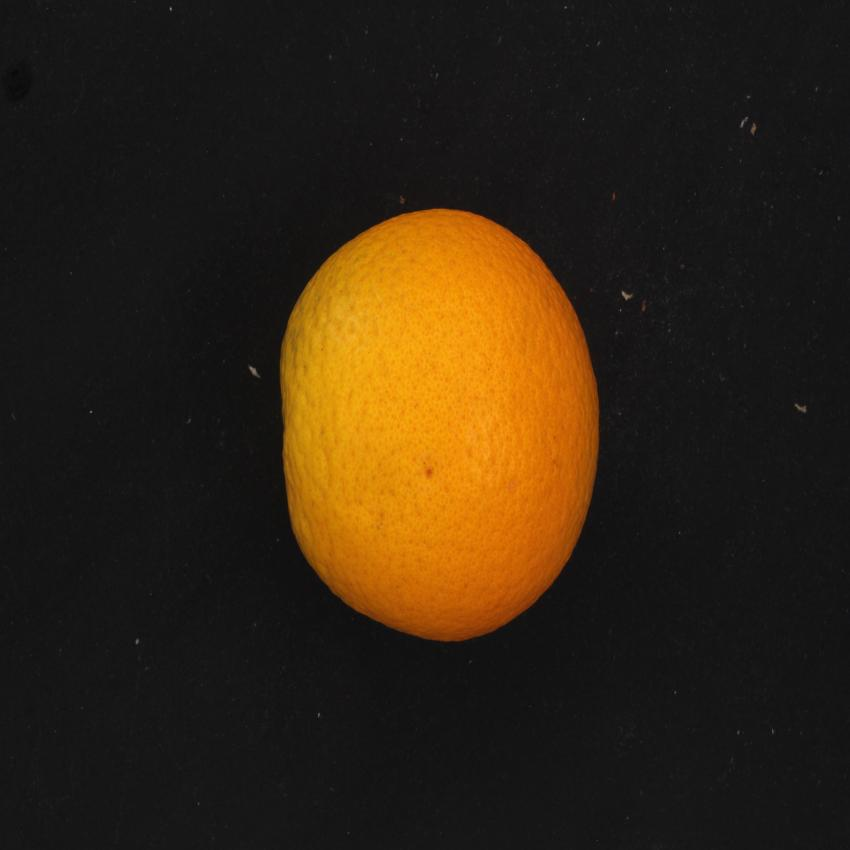Buen estado: (270, 197, 626, 660)
